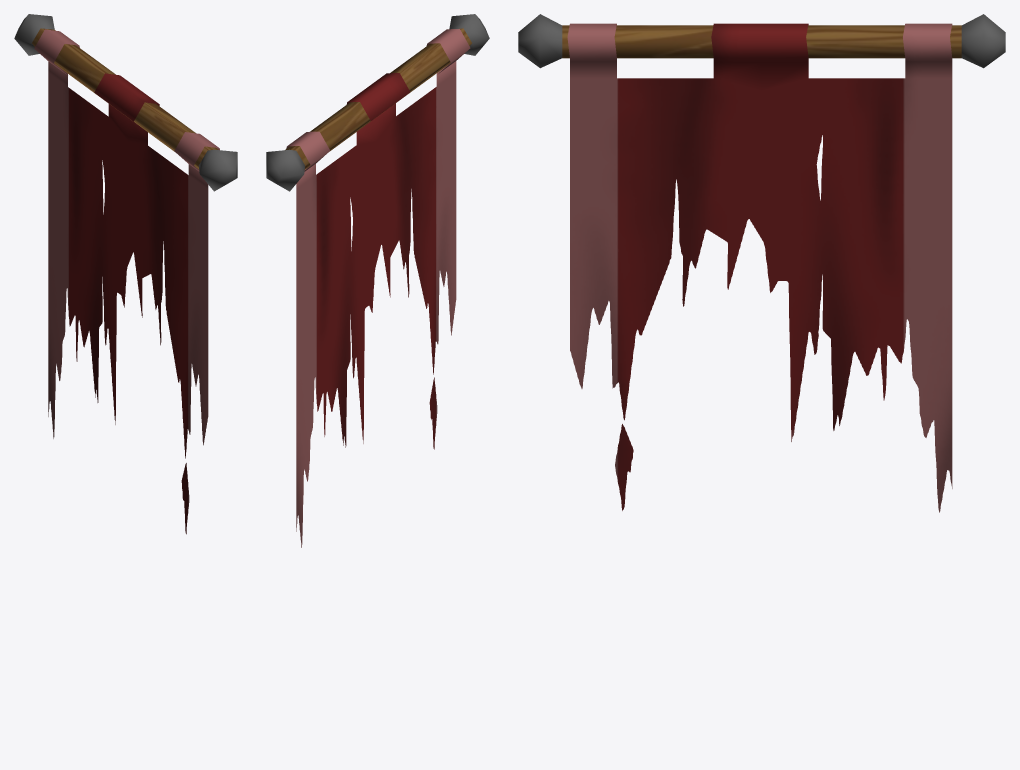
File: Flag4.FBX
3 renders of one model, left to right at view 1: azimuth 30°, elevation 25°; view 2: azimuth 150°, elevation 25°; view 3: azimuth 270°, elevation 25°, orthographic. The views are drawn at different scales.
Parts seen in each view (by area): view 1: Standard_Flag_003; view 2: Standard_Flag_003; view 3: Standard_Flag_003.
Boxes of the visible parts, <box> form: Standard_Flag_003: <box>14,14,237,534</box>; Standard_Flag_003: <box>266,14,489,547</box>; Standard_Flag_003: <box>518,14,1005,512</box>.
Bounding box in the file's own units: 2.39 × 37.06 × 22.18.
